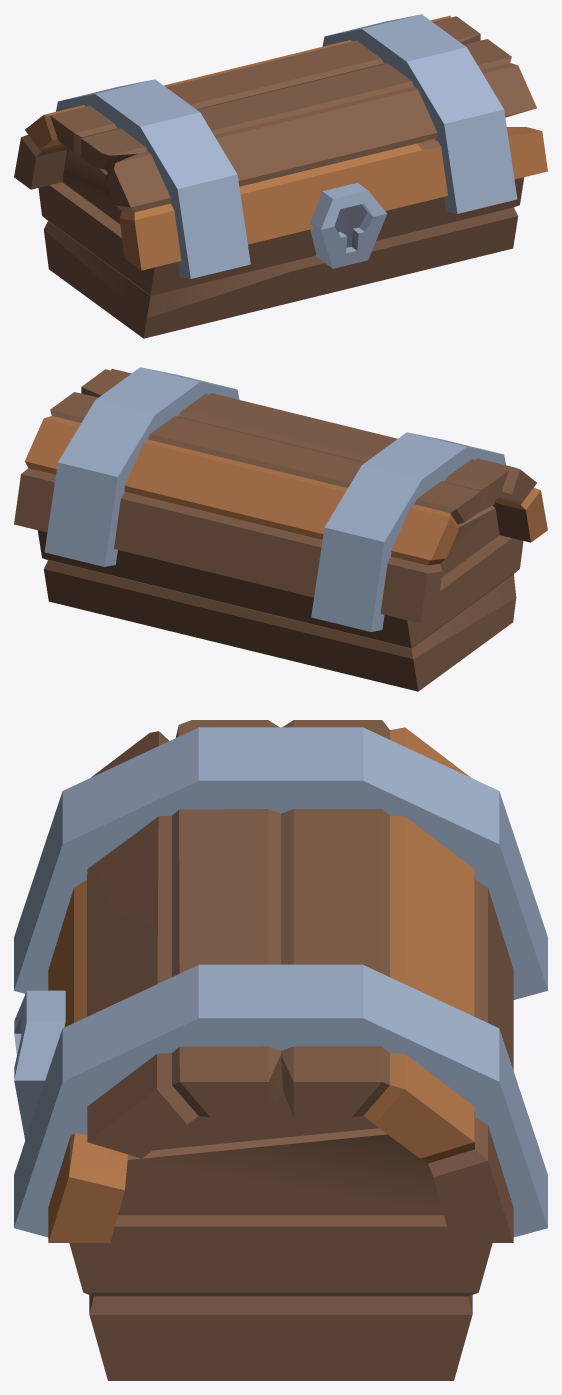
Rendered from Chest.fbx.
The picture shows the model from 3 angles, top to bottom: view 1: azimuth 30°, elevation 25°; view 2: azimuth 150°, elevation 25°; view 3: azimuth 270°, elevation 25°; orthographic projection. The views are drawn at different scales.
Parts seen in each view (by area): view 1: Chest; view 2: Chest; view 3: Chest.
Boxes of the visible parts, bbox=[...] form: Chest: bbox=[14, 14, 547, 338]; Chest: bbox=[14, 367, 547, 691]; Chest: bbox=[14, 720, 547, 1380].
Bounding box in the file's own units: 1.22 × 0.7605 × 0.54.
